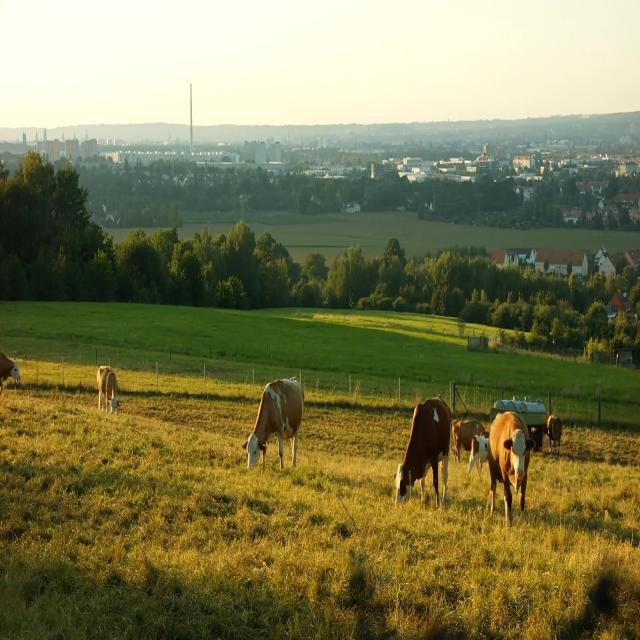cow: (232, 368, 327, 488), (381, 382, 466, 516), (484, 400, 552, 541), (85, 354, 129, 416)
